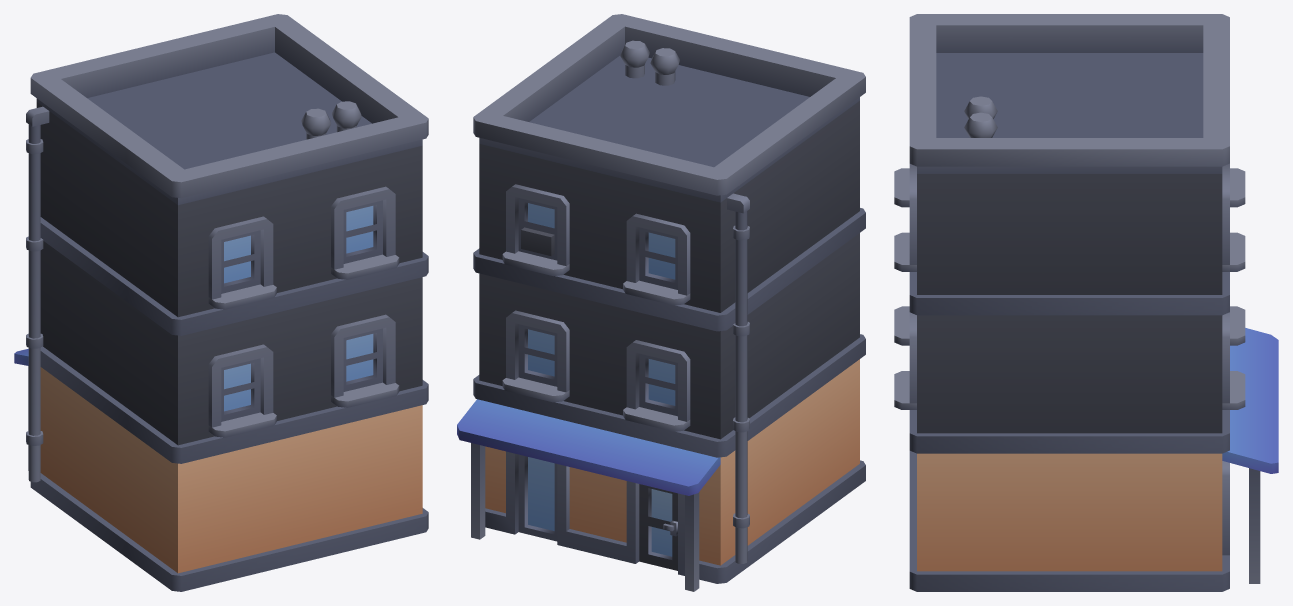
Rendered from building-h.glb.
3 renders of one model, left to right at view 1: azimuth 30°, elevation 25°; view 2: azimuth 150°, elevation 25°; view 3: azimuth 270°, elevation 25°, orthographic. The views are drawn at different scales.
Visible parts, largest first — view 1: building-h; view 2: building-h; view 3: building-h.
Boxes of the visible parts, x1=… form: building-h: x1=14, y1=14, x2=428, y2=591; building-h: x1=457, y1=14, x2=865, y2=591; building-h: x1=894, y1=14, x2=1278, y2=591.
Bounding box in the file's own units: 0.8836 × 1.29 × 1.01.
Materials: 1 (1 with a texture image).
